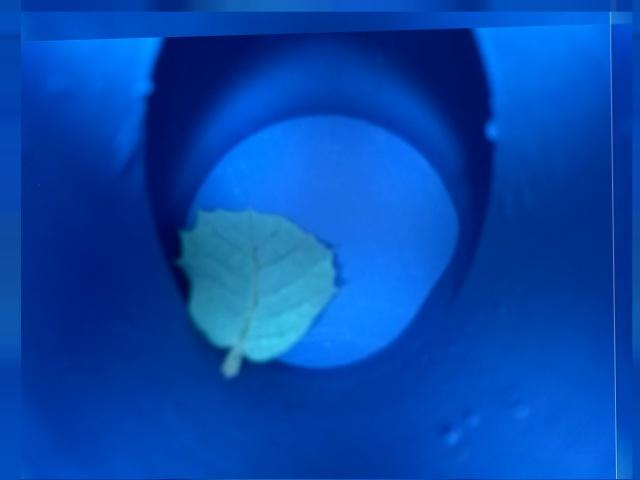feuille: (164, 199, 345, 382)
